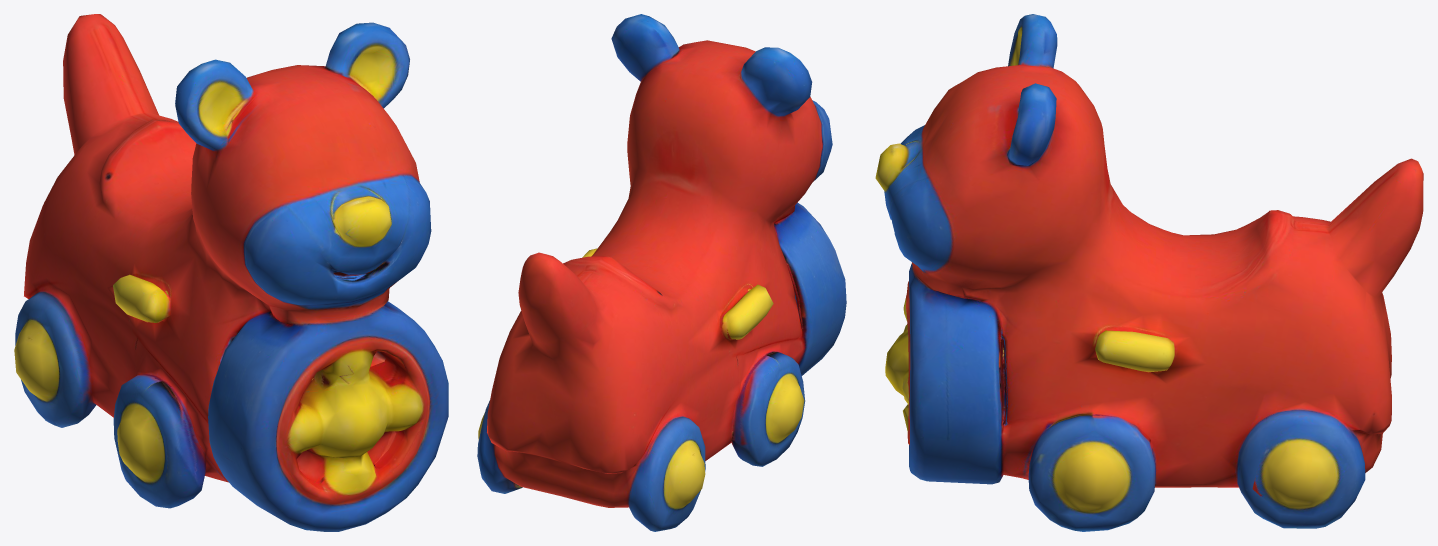
3 renders of one model, left to right at view 1: azimuth 30°, elevation 25°; view 2: azimuth 150°, elevation 25°; view 3: azimuth 270°, elevation 25°, orthographic. The views are drawn at different scales.
Visible parts, largest first — view 1: Mesh1.0; view 2: Mesh1.0; view 3: Mesh1.0.
Boxes of the visible parts, x1,y1,x2,y2 form: Mesh1.0: (14, 14, 448, 531); Mesh1.0: (477, 14, 846, 531); Mesh1.0: (875, 14, 1423, 531).
Size of the model in its own units: 107 by 176 by 201.
1 material, 1 textured.
